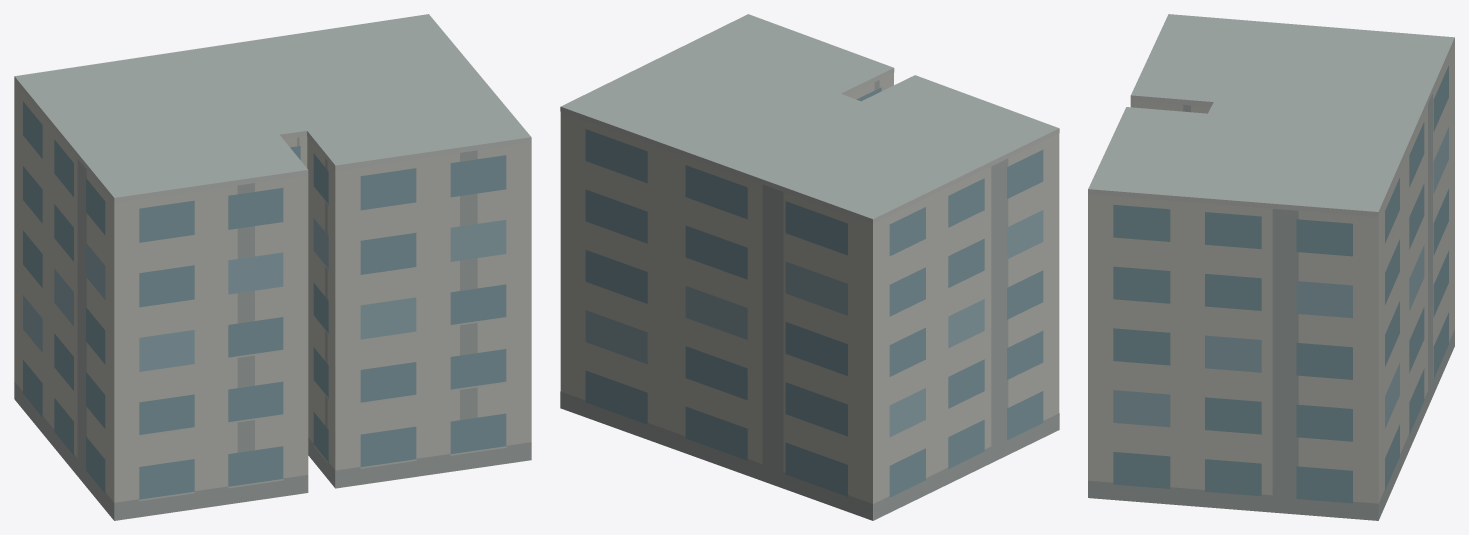
The model's file is survey-upis-32827242.glb.
3 views of the same model, side by side, from view 1: azimuth 30°, elevation 25°; view 2: azimuth 150°, elevation 25°; view 3: azimuth 270°, elevation 25° (orthographic). The views are drawn at different scales.
Parts seen in each view (by area): view 1: survey-upis-32827242.tmp; view 2: survey-upis-32827242.tmp; view 3: survey-upis-32827242.tmp.
Boxes of the visible parts, bbox=[...] form: survey-upis-32827242.tmp: bbox=[14, 14, 531, 520]; survey-upis-32827242.tmp: bbox=[560, 14, 1059, 520]; survey-upis-32827242.tmp: bbox=[1088, 14, 1454, 520].
Size of the model in its own units: 20.22 by 14.7 by 15.83.
